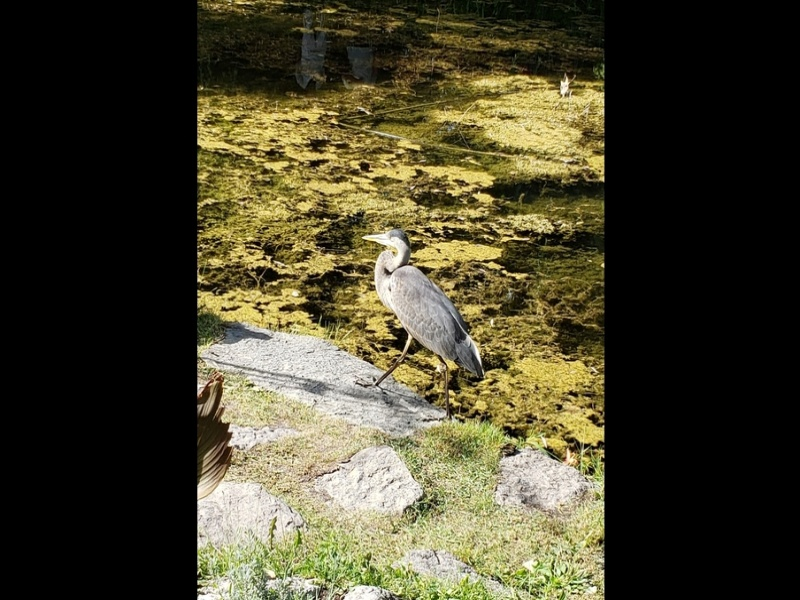heron: (361, 229, 481, 431)
